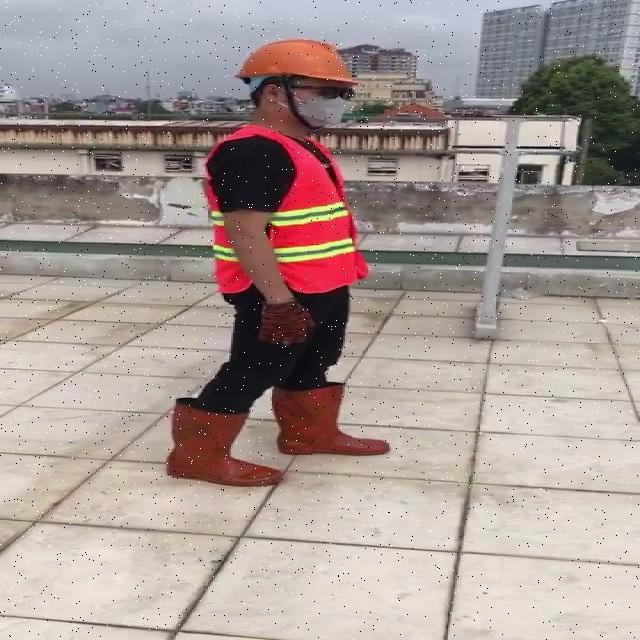Hard_hat: (229, 33, 363, 96)
Person: (163, 36, 389, 638)
Vest: (258, 130, 355, 295)
